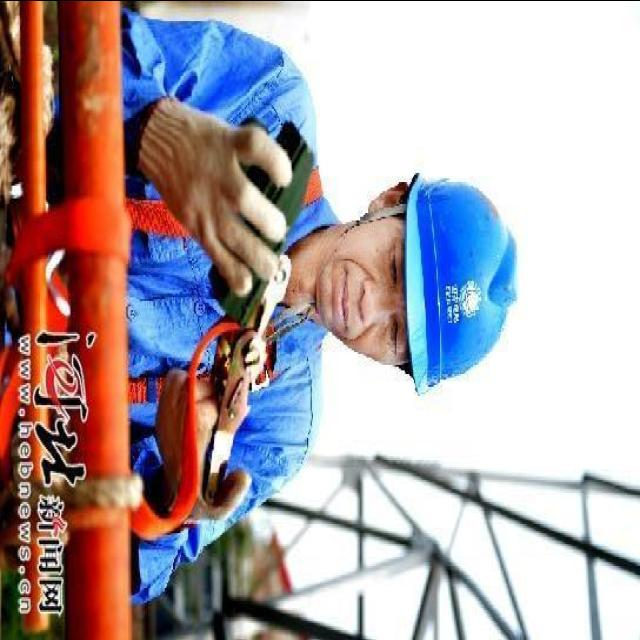helmet: (396, 141, 528, 411)
